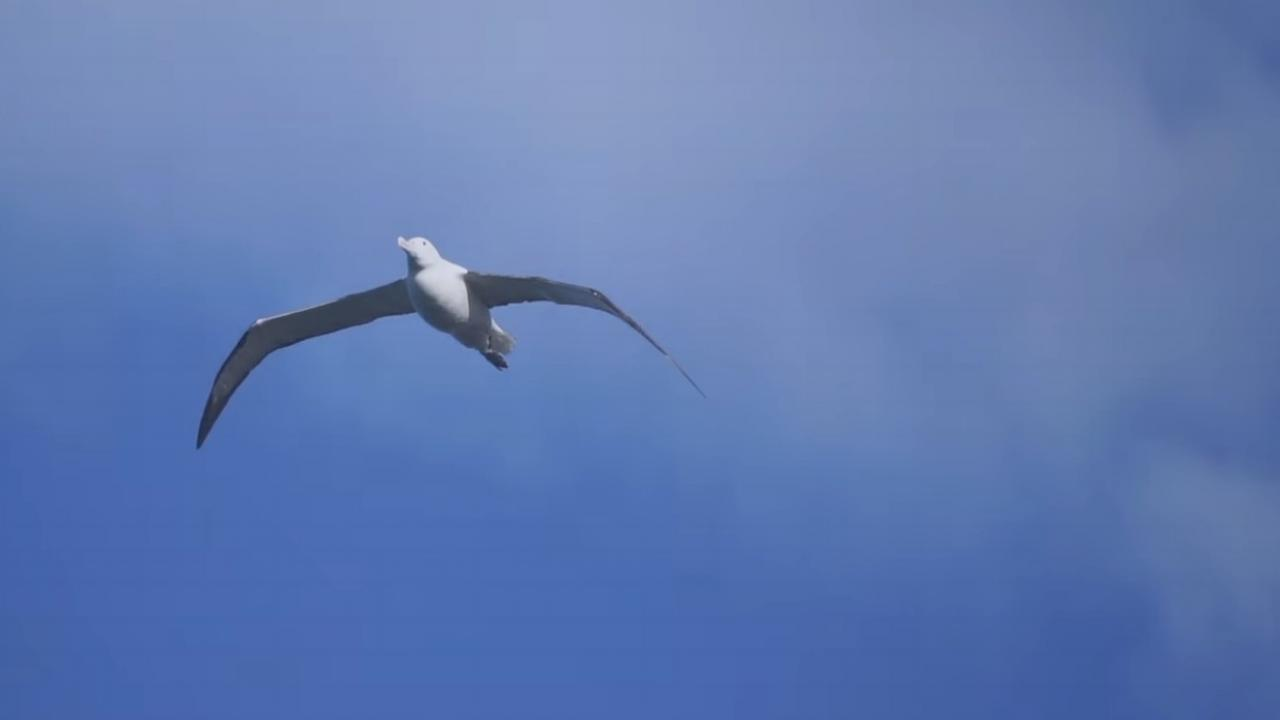Bird: (187, 220, 721, 460)
